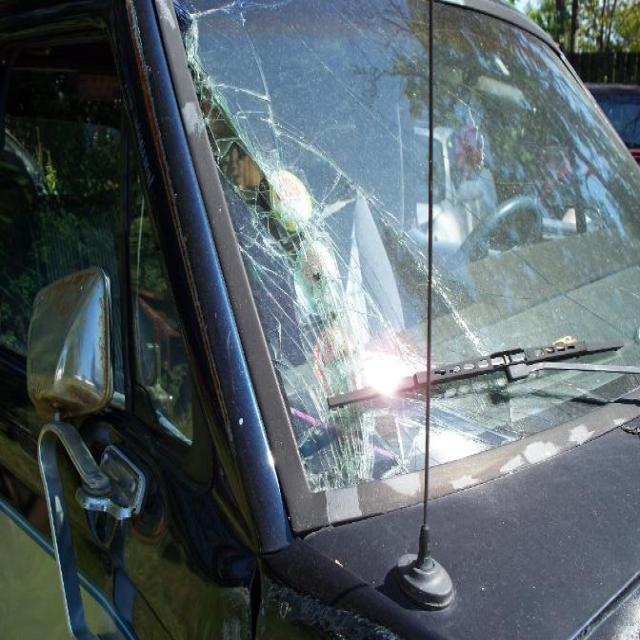crack: (171, 0, 495, 491)
